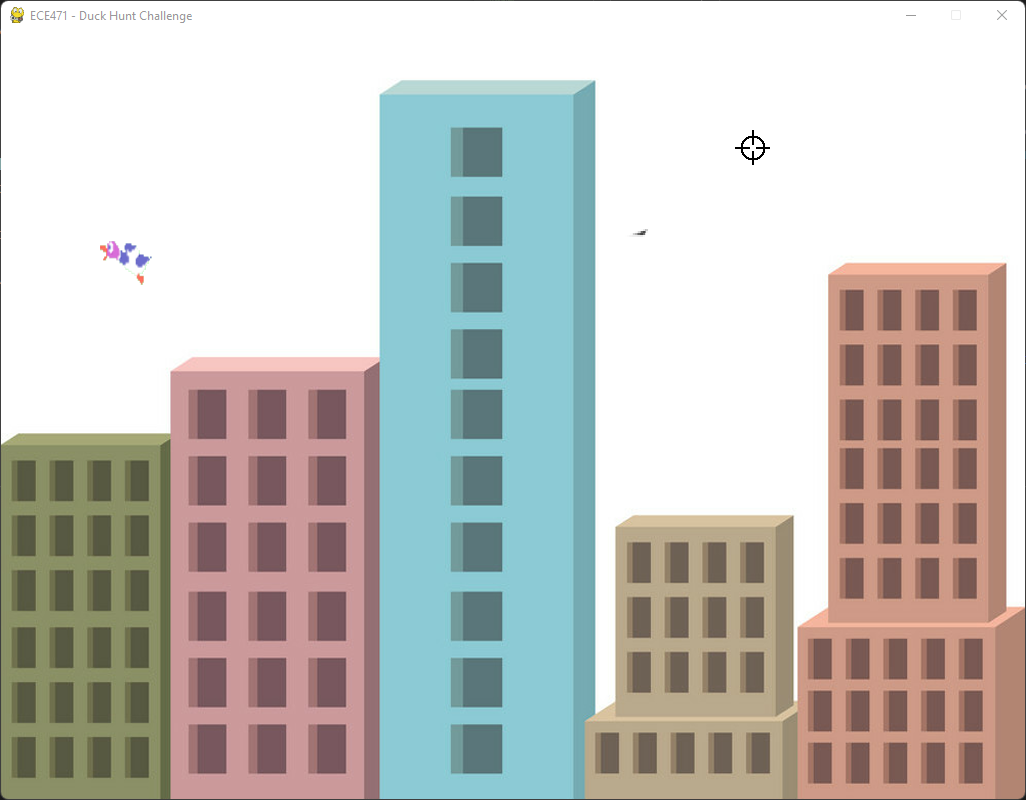blue: (90, 231, 162, 294)
